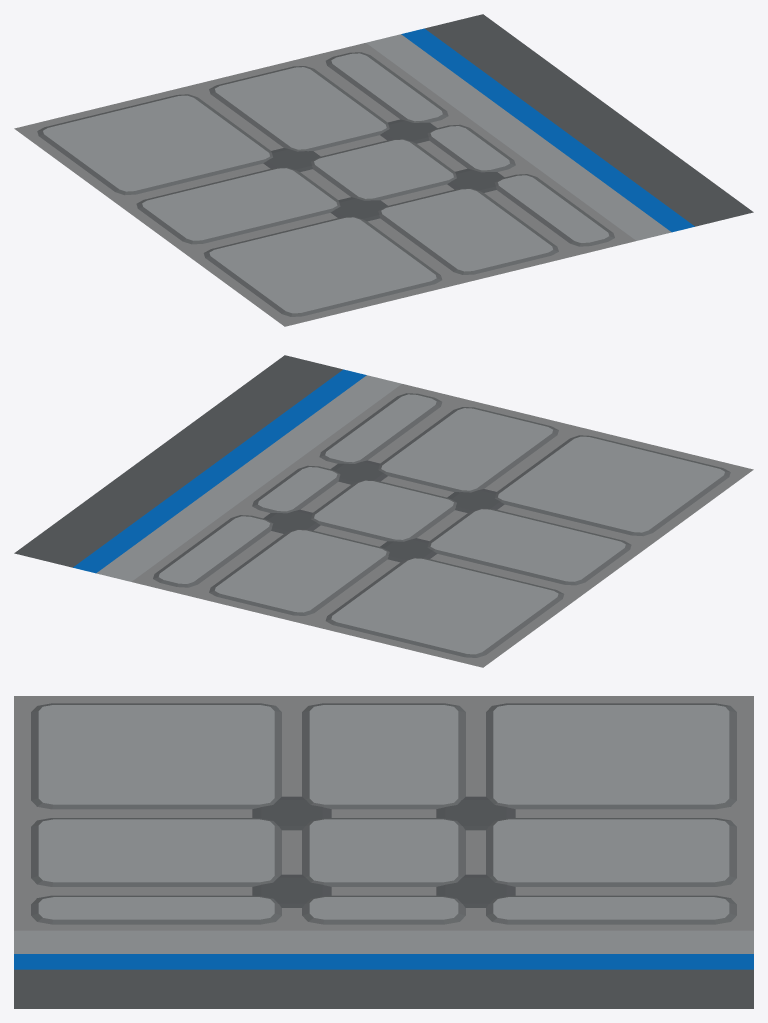
File: Floor_type_B_019.fbx
The picture shows the model from 3 angles, top to bottom: view 1: azimuth 30°, elevation 25°; view 2: azimuth 150°, elevation 25°; view 3: azimuth 270°, elevation 25°; orthographic projection. The views are drawn at different scales.
Parts seen in each view (by area): view 1: Floor_type_B_019; view 2: Floor_type_B_019; view 3: Floor_type_B_019.
Boxes of the visible parts, x1,y1,x2,y2 form: Floor_type_B_019: (14, 14, 753, 326); Floor_type_B_019: (14, 355, 753, 667); Floor_type_B_019: (14, 696, 753, 1008).
Bounding box in the file's own units: 400 × 400 × 1.34.
